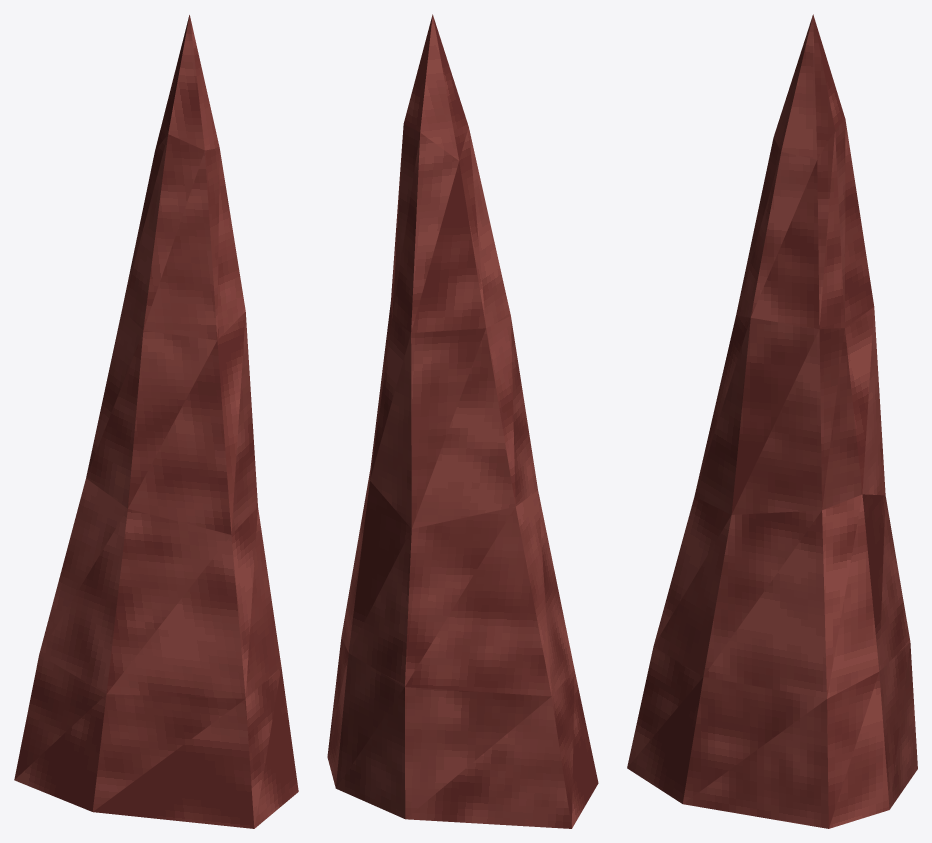
File: spire.glb
The picture shows the model from 3 angles, left to right: view 1: azimuth 30°, elevation 25°; view 2: azimuth 150°, elevation 25°; view 3: azimuth 270°, elevation 25°; orthographic projection. The views are drawn at different scales.
Parts seen in each view (by area): view 1: Spire; view 2: Spire; view 3: Spire.
Part boxes in pixels (box(x1,y1,x2,y2)): Spire: box(14, 15, 298, 828); Spire: box(327, 14, 598, 828); Spire: box(627, 14, 917, 828).
Size of what is drawn, in the model's own units: 0.9185 by 2.6 by 0.8939.
1 material, 1 textured.
